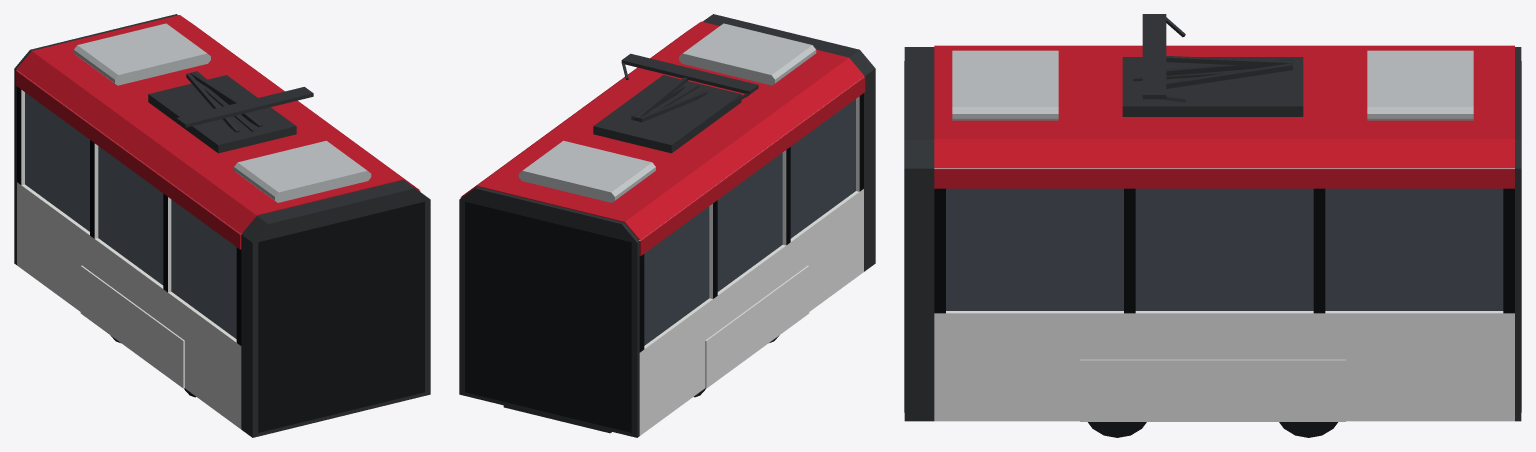
3 renders of one model, left to right at view 1: azimuth 30°, elevation 25°; view 2: azimuth 150°, elevation 25°; view 3: azimuth 270°, elevation 25°, orthographic. The views are drawn at different scales.
Parts seen in each view (by area): view 1: 52t-d; view 2: 52t-d; view 3: 52t-d.
Part boxes in pixels (bbox=[...]): 52t-d: bbox=[14, 14, 430, 437]; 52t-d: bbox=[459, 14, 875, 437]; 52t-d: bbox=[904, 14, 1521, 437].
Bounding box in the file's own units: 2.54 × 3.52 × 5.8.
